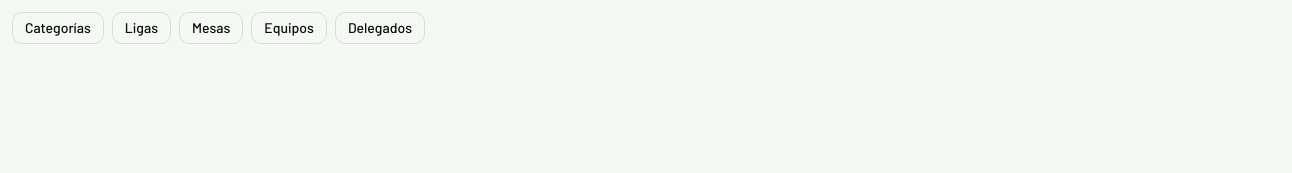
Test: ActividadCliente (plataforma, solo lectura) › categorías: marca las archivadas y cuenta sus ligas
Click the button "Categorías" at x=58, y=28, box x1=12 y1=12 x2=104 y2=44
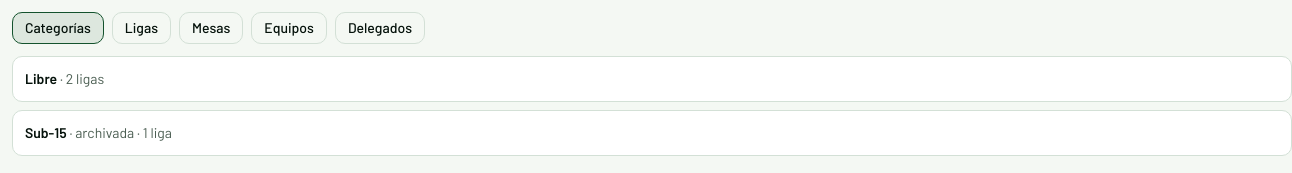
Check: the list named "Categorías del cliente" shows "Libre", box x1=25 y1=70 x2=57 y2=87
Check: the list named "Categorías del cliente" shows "2 ligas", box x1=12 y1=56 x2=1291 y2=156
Check: the list named "Categorías del cliente" shows "Sub-15", box x1=25 y1=124 x2=67 y2=141
